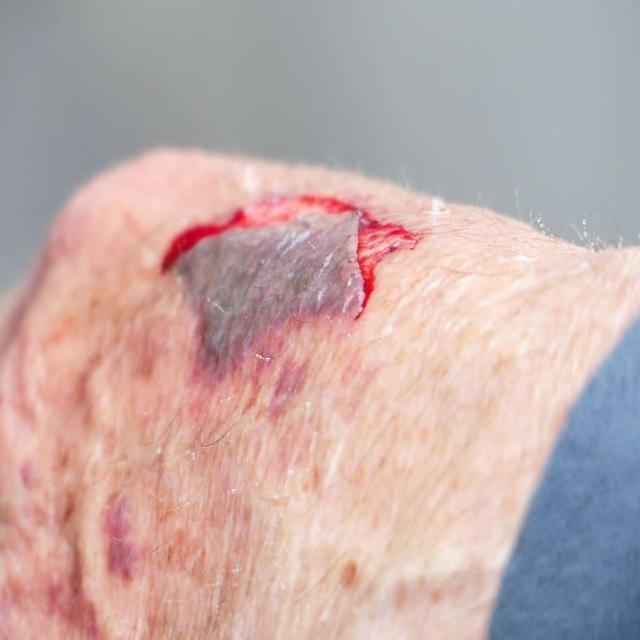flood: (148, 167, 422, 340)
